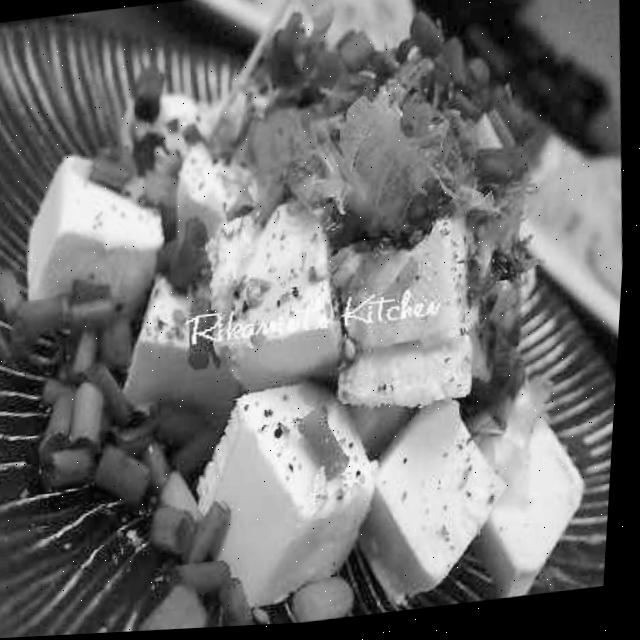豆腐料理: (0, 0, 618, 640)
